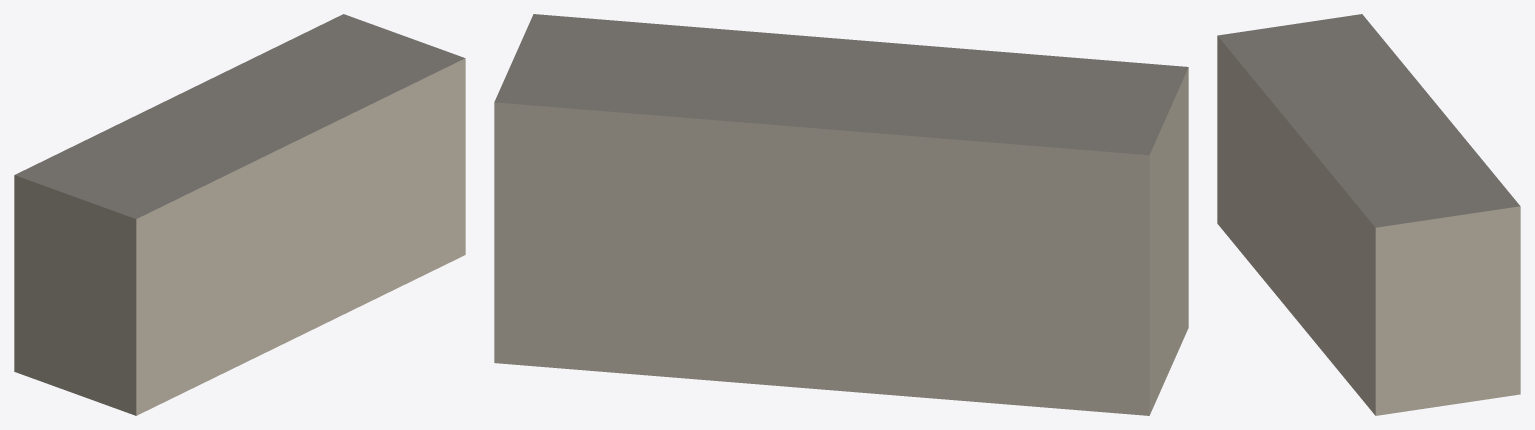
3 renders of one model, left to right at view 1: azimuth 30°, elevation 25°; view 2: azimuth 150°, elevation 25°; view 3: azimuth 270°, elevation 25°, orthographic. The views are drawn at different scales.
Visible parts, largest first — view 1: HP-w408450729; view 2: HP-w408450729; view 3: HP-w408450729.
Boxes of the visible parts, x1,y1,x2,y2 form: HP-w408450729: [14, 14, 465, 415]; HP-w408450729: [494, 14, 1188, 415]; HP-w408450729: [1217, 14, 1520, 415].
Bounding box in the file's own units: 36.53 × 15 × 21.89.
